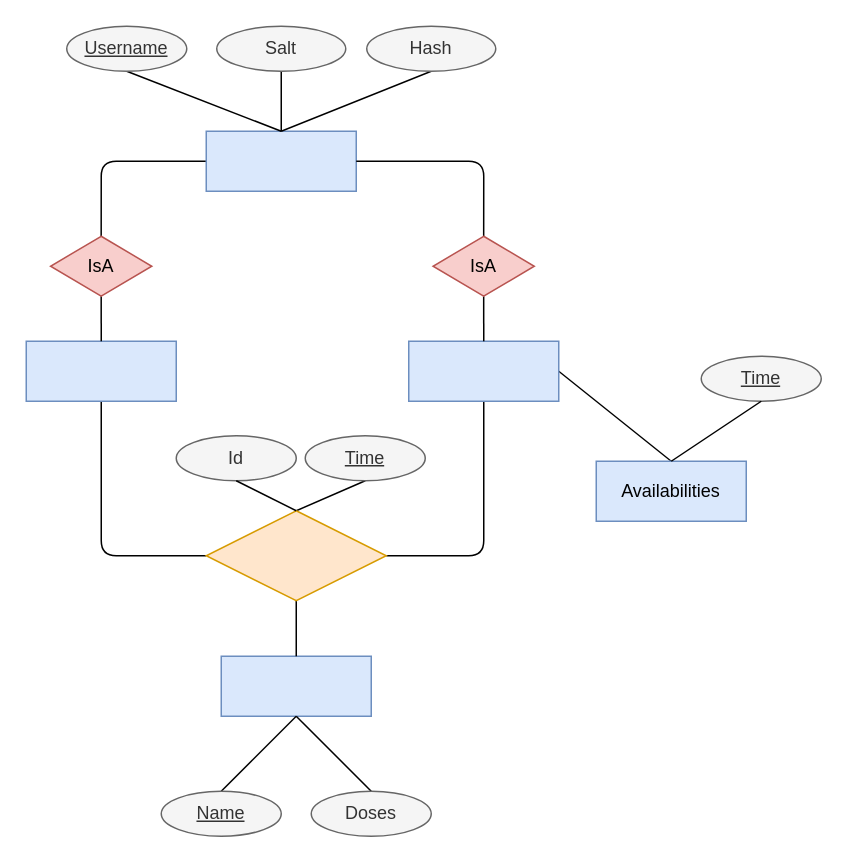
The diagram is 848 pixels wide and 863 high, and some of its shapes have lost their labels. The shapes that lost their labels are listed below. From the top down, each one's box as (x1, y1, x2, y2) in pixels, then its label:
(205, 130, 356, 191): Users
(25, 340, 176, 401): Patients
(407, 340, 559, 401): Caregivers
(205, 509, 386, 601): Reservations
(220, 655, 371, 716): Vaccines
